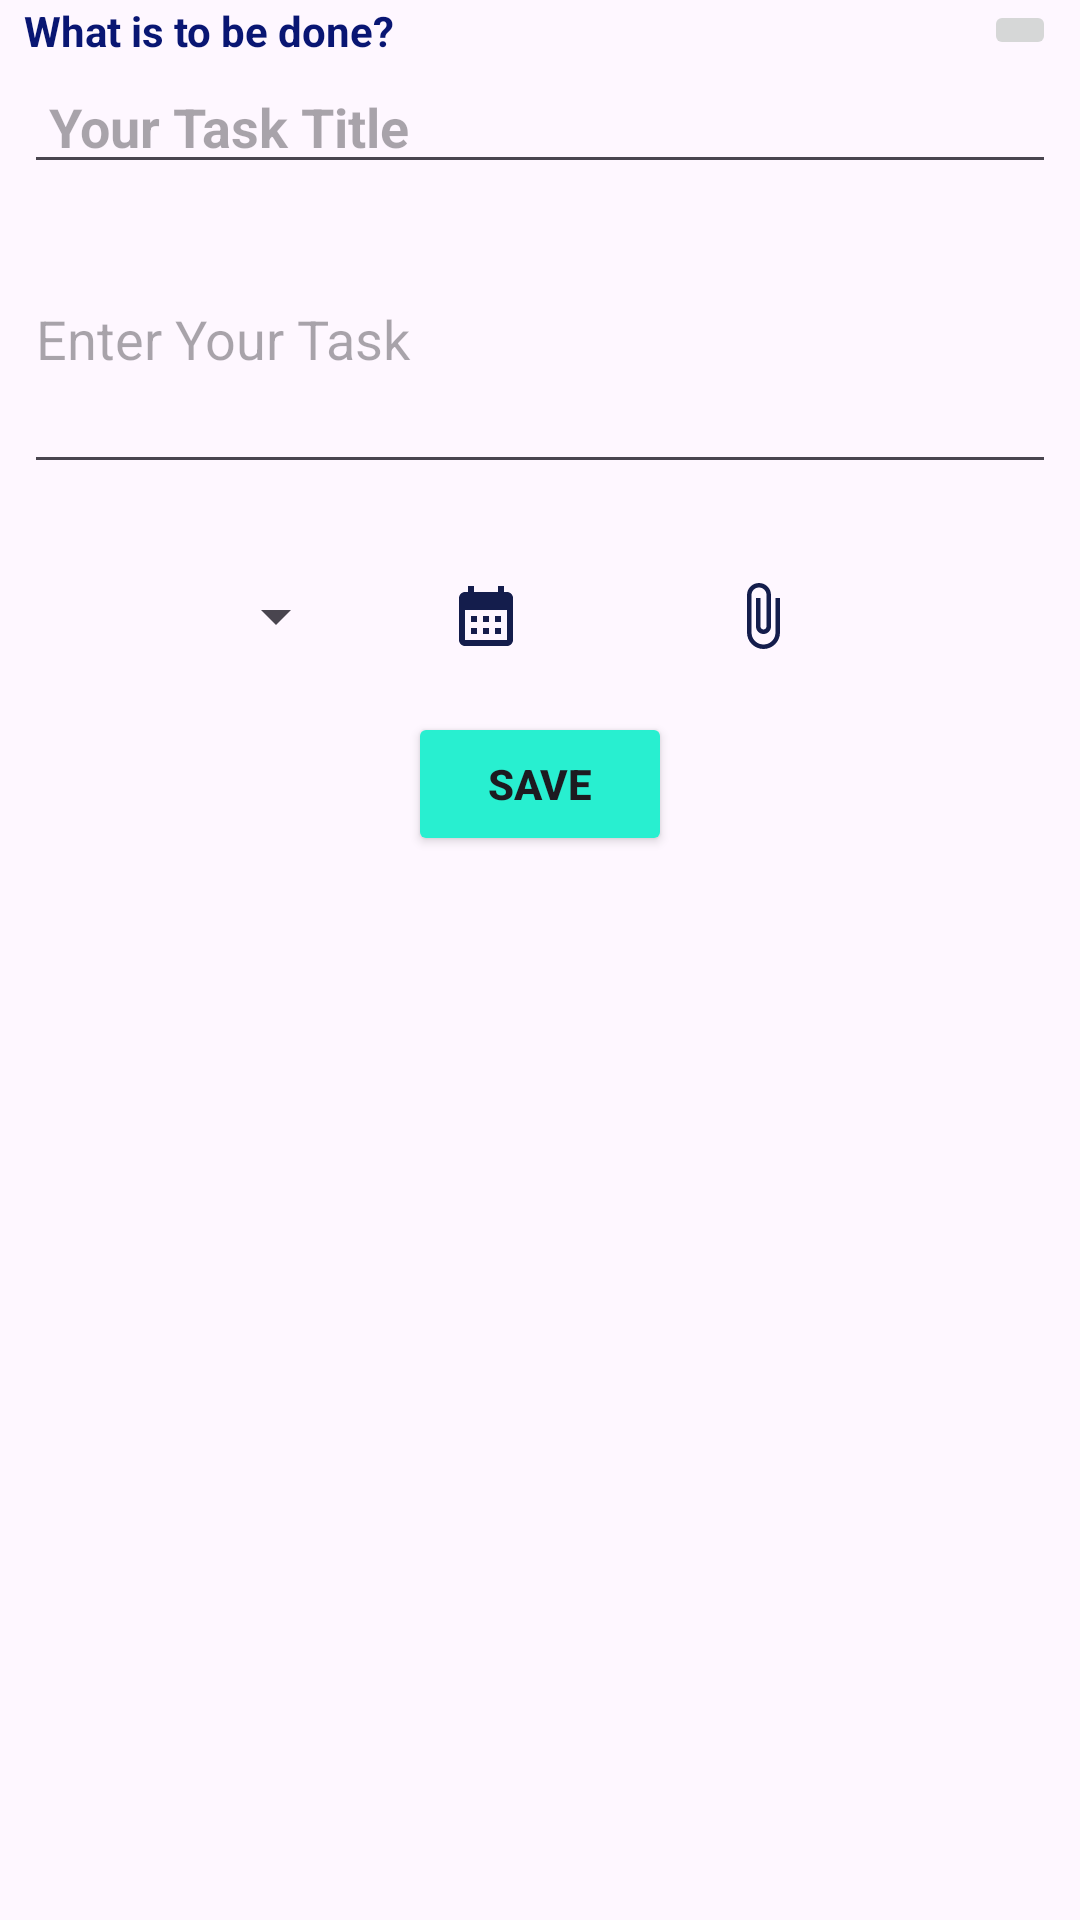

Named icons in this screenshot (1080px×1920px) and their bounding boxes, bbox=(x1, y1, x2, y2):
attach file: bbox=(747, 583, 780, 649)
calendar month: bbox=(459, 586, 513, 646)
